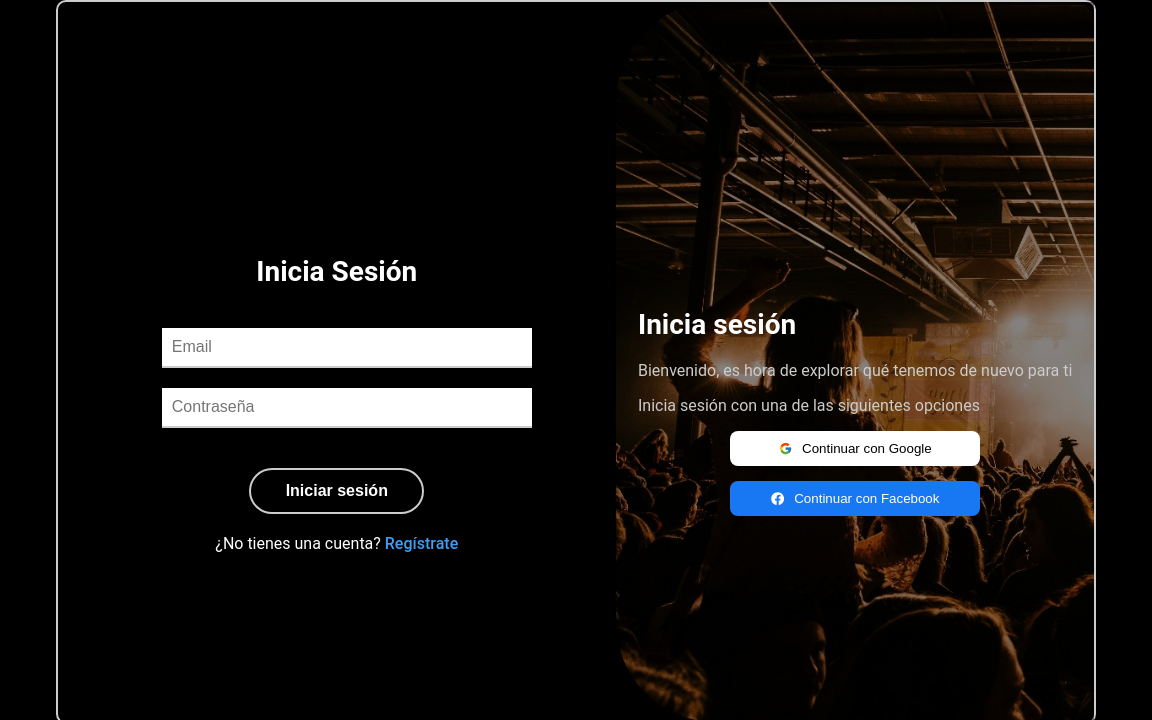
SignIn › muestra mensaje de error si se envía formulario vacío
Click the button "Iniciar sesión" at (337, 491), box [249,468,424,514]
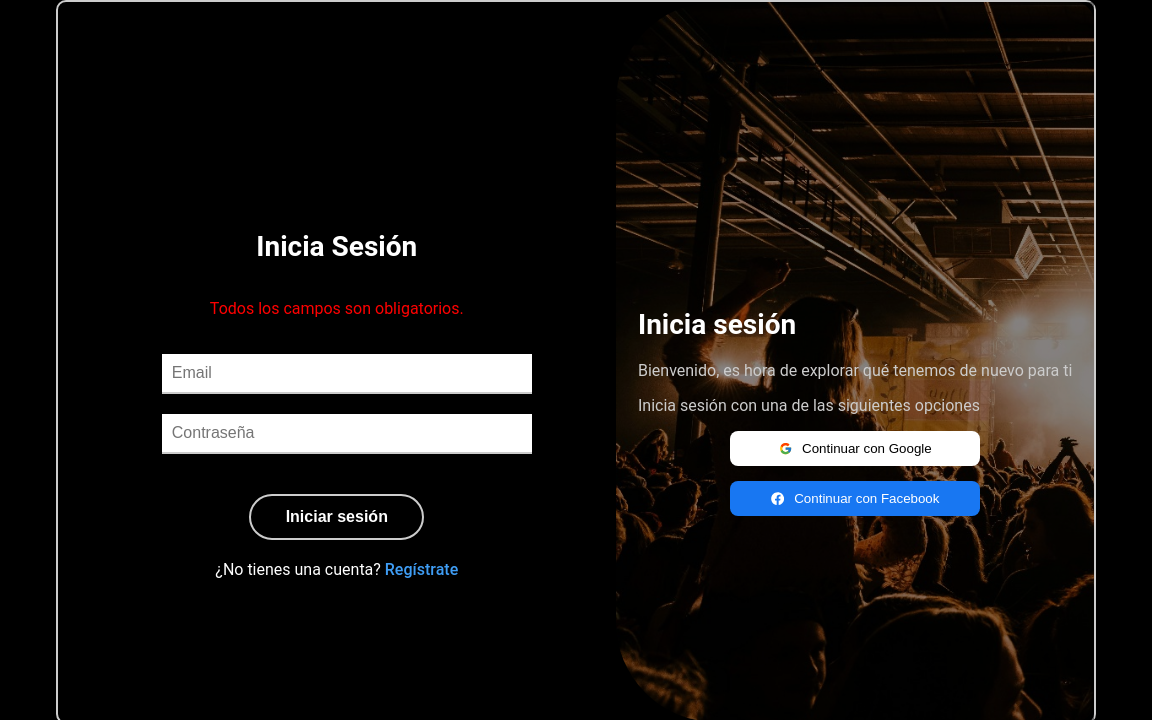
Result: the text "Todos los campos son obligatorios." is shown at [210,298,464,318]
